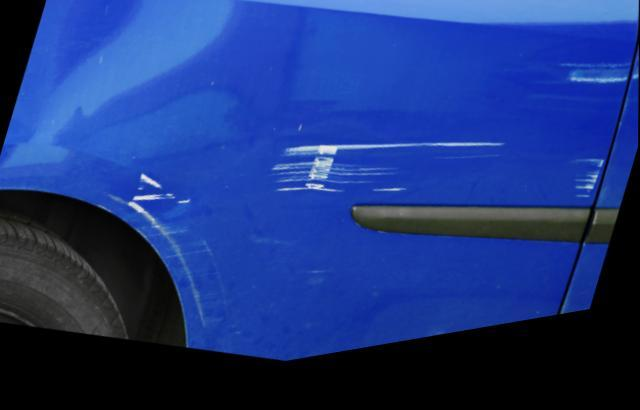scratch: (100, 177, 231, 335), (267, 156, 505, 208), (570, 174, 605, 225)
